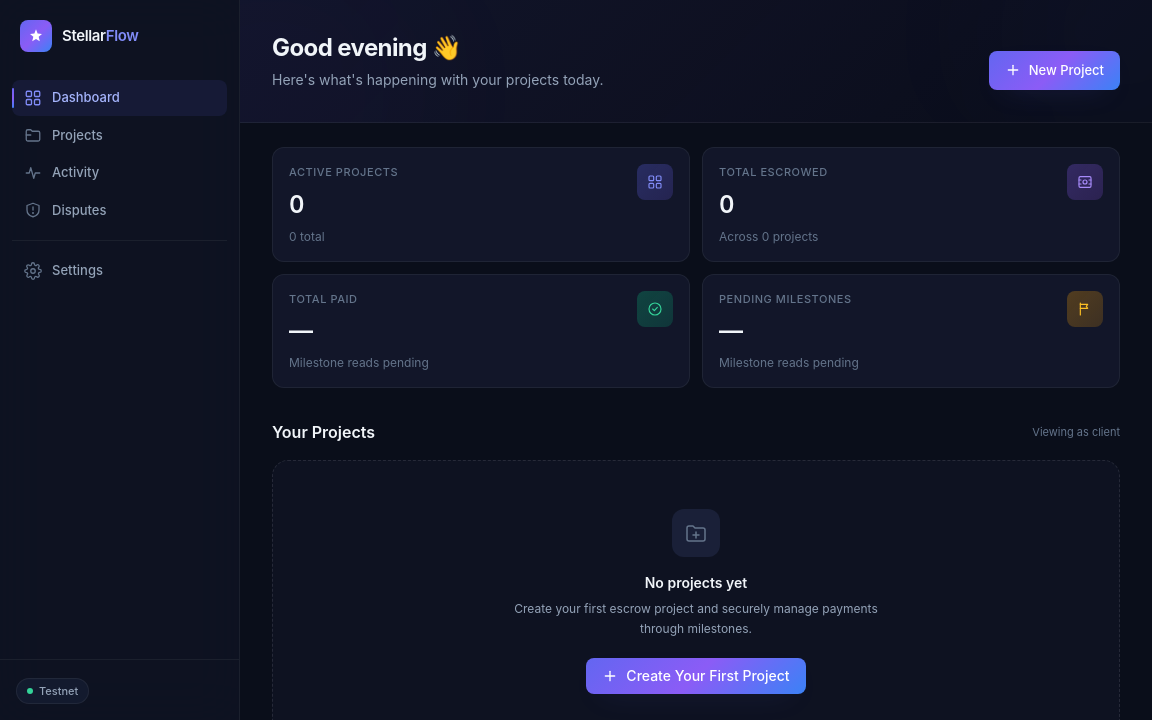
App shell › opens the Create Project wizard from the Projects view
Click the button "Projects" at (120, 135), box [12, 118, 227, 153]
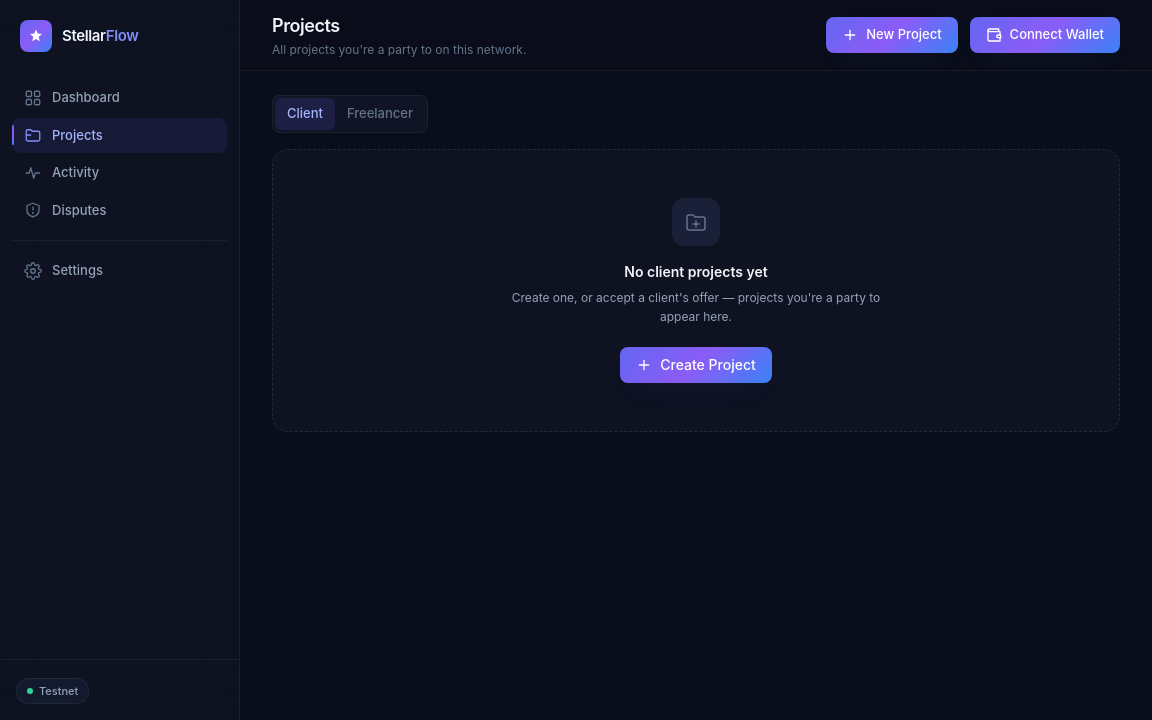
Expected: the heading "Projects" is shown, [272, 15, 340, 36]
# Button text changed from "New project" to "New Project"
Click the button "New Project" at (892, 35), box [826, 17, 958, 53]
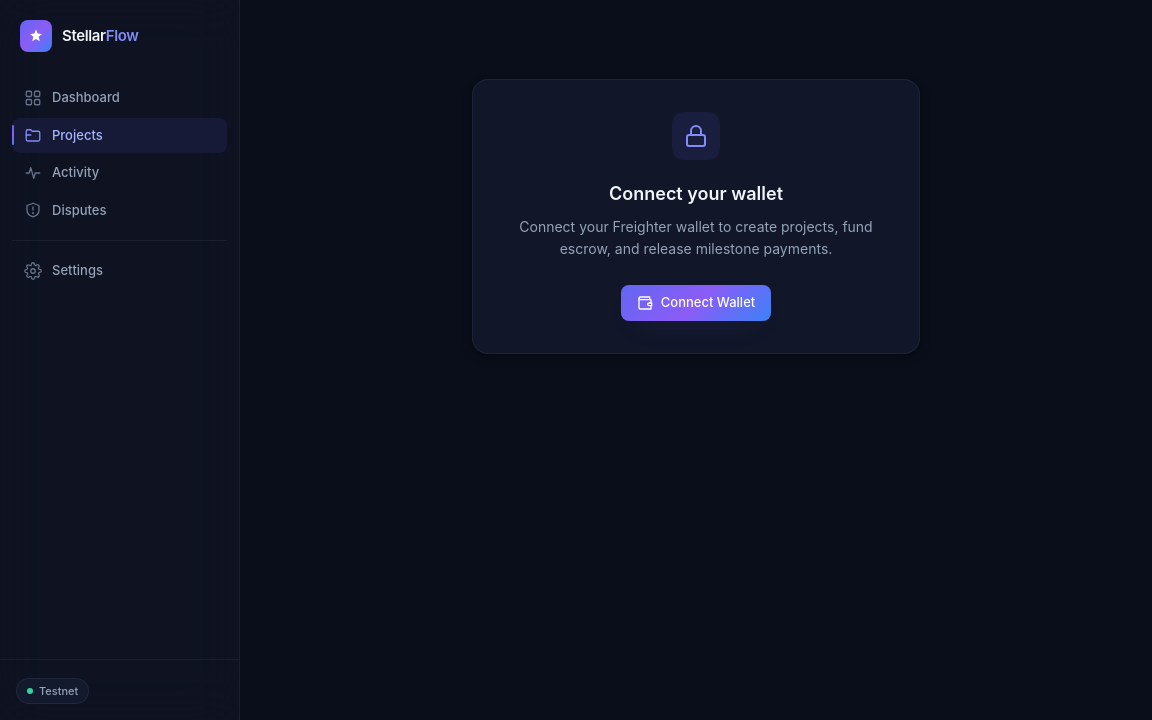
Expected: the heading "Connect your wallet" is shown, [609, 182, 783, 204]
